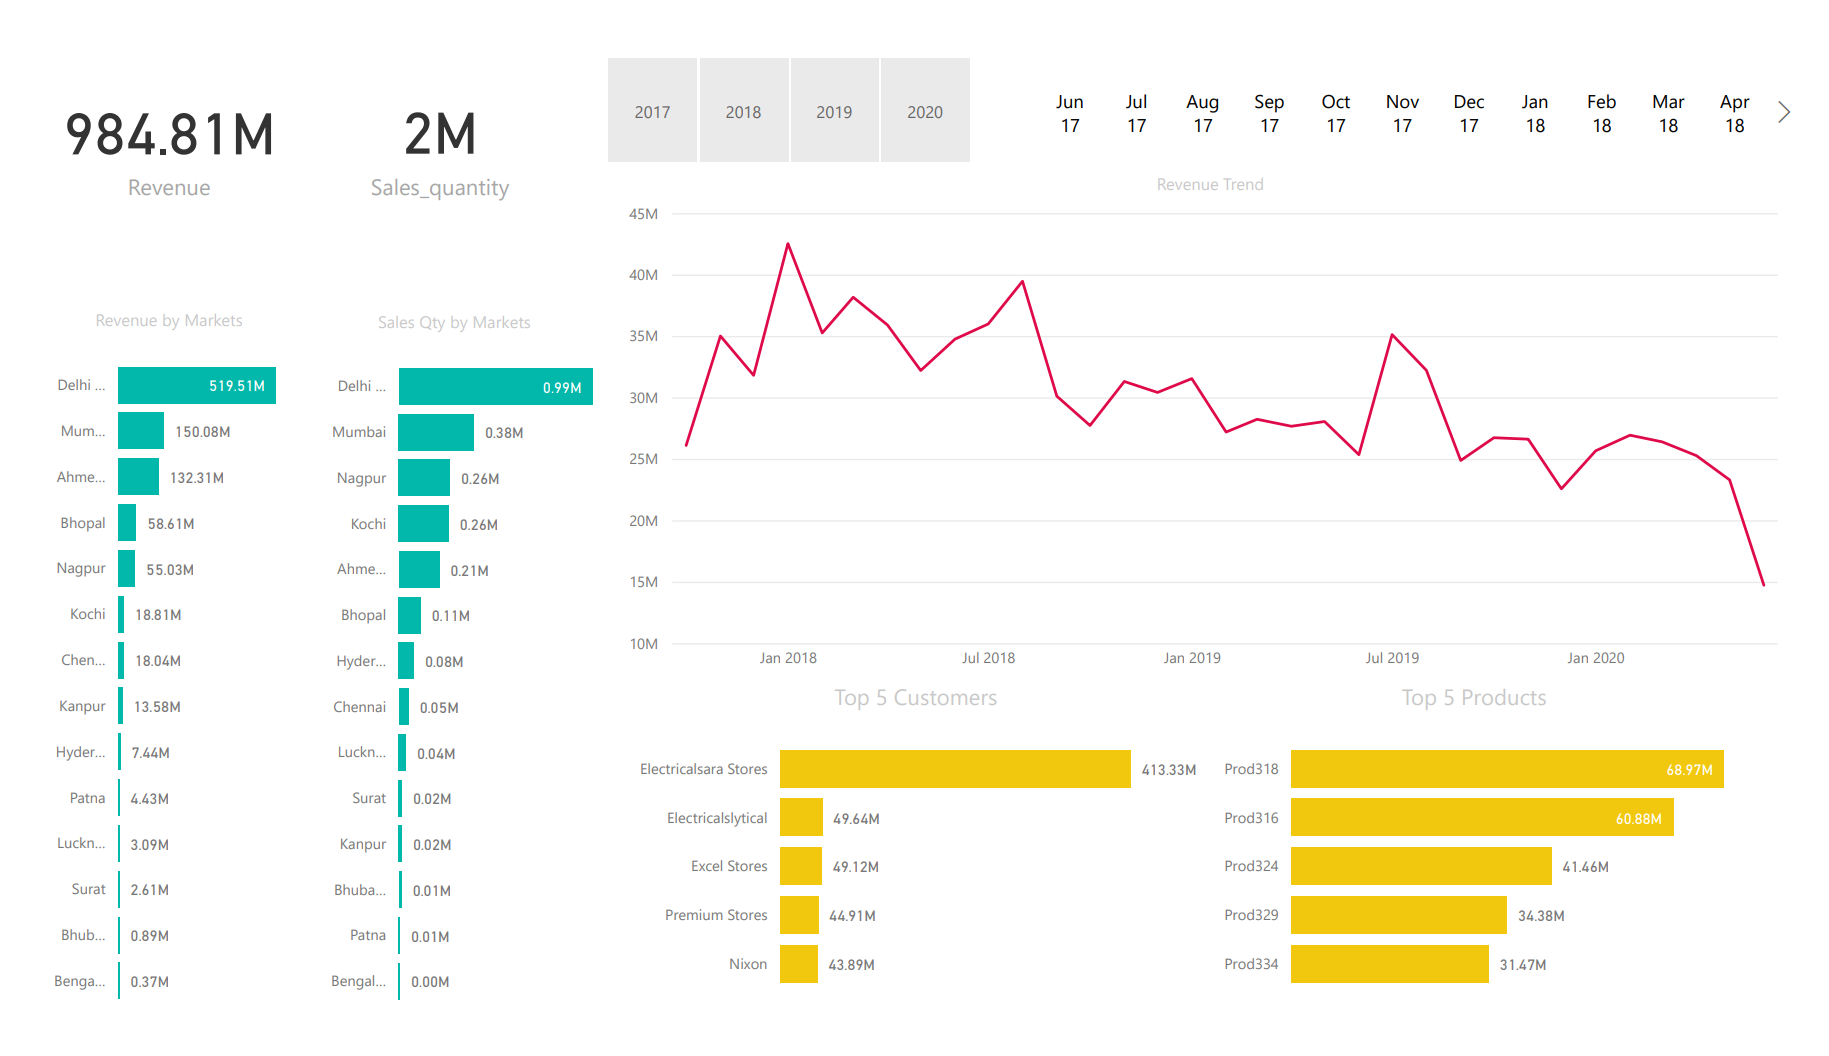

The page's visual inventory and layout, read from the dashboard file:
{"tool":"powerbi","page":{"name":"Page 1","canvas":[1280,720],"ordinal":0},"visuals":[{"type":"card","fields":{"Values":["Personal Measures.Revenue"]},"box":[0,1.4,200.3,161.9],"z":0},{"type":"card","fields":{"Values":["Personal Measures.Sales_quantity"]},"box":[200.3,0,192.1,163.3],"z":1000},{"type":"barChart","title":"Revenue by Markets","fields":{"Y":["Personal Measures.Revenue"],"Category":["sales markets.markets_name"]},"box":[0,201.7,200.3,518.7],"z":2000},{"type":"barChart","title":"Sales Qty by Markets","fields":{"Y":["Personal Measures.Sales_quantity"],"Category":["sales markets.markets_name"]},"box":[200.3,203.1,212.7,517.3],"z":3000},{"type":"slicer","fields":{"Values":["sales date.year"]},"box":[392.5,0,310.1,102.9],"z":4000},{"type":"slicer","fields":{"Values":["sales date.cy_date"]},"box":[702.6,1.4,577.7,102.9],"z":5000},{"type":"barChart","title":"Top 5 Customers","fields":{"Category":["sales customers.custmer_name"],"Y":["Personal Measures.Revenue"]},"box":[426.8,472,426.8,248.4],"z":5001},{"type":"barChart","title":"Top 5 Products","fields":{"Y":["Personal Measures.Revenue"],"Category":["sales transactions.product_code"]},"box":[853.5,472,381.5,248.4],"z":5002},{"type":"lineChart","title":"Revenue Trend","fields":{"Y":["Personal Measures.Revenue"],"Category":["sales date.cy_date.Variation.Date Hierarchy.Year","sales date.cy_date.Variation.Date Hierarchy.Quarter","sales date.cy_date.Variation.Date Hierarchy.Month","sales date.cy_date.Variation.Date Hierarchy.Day"]},"box":[426.8,102.9,853.5,369.1],"z":5003}]}

Visuals, with their boxes in screenshot pixels (x1, y1, x2, y2), scaled from the page's 1280x720 canvas onto the 1829x1056 screenshot:
card - Personal Measures.Revenue: pyautogui.locateOnScreen(0, 2, 286, 240)
card - Personal Measures.Sales_quantity: pyautogui.locateOnScreen(286, 0, 561, 240)
"Revenue by Markets" barChart: pyautogui.locateOnScreen(0, 296, 286, 1055)
"Sales Qty by Markets" barChart: pyautogui.locateOnScreen(286, 298, 590, 1055)
slicer - sales date.year: pyautogui.locateOnScreen(561, 0, 1004, 151)
slicer - sales date.cy_date: pyautogui.locateOnScreen(1004, 2, 1828, 153)
"Top 5 Customers" barChart: pyautogui.locateOnScreen(610, 692, 1220, 1055)
"Top 5 Products" barChart: pyautogui.locateOnScreen(1220, 692, 1765, 1055)
"Revenue Trend" lineChart: pyautogui.locateOnScreen(610, 151, 1828, 692)
